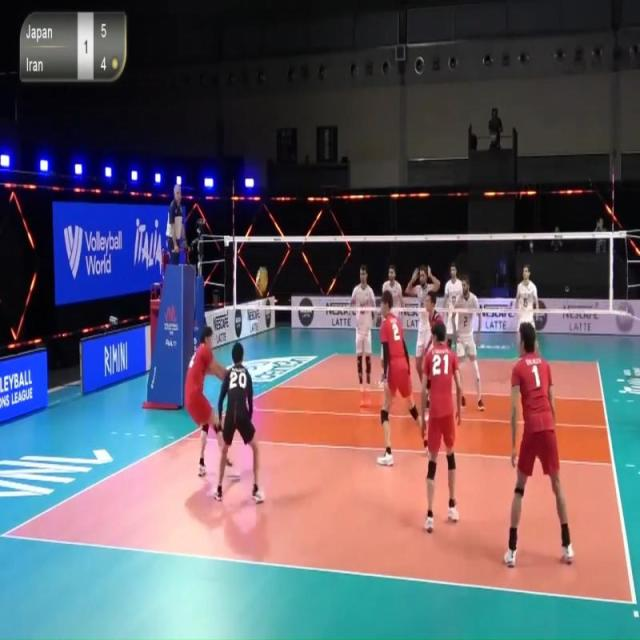volleyball: (255, 267, 269, 294)
